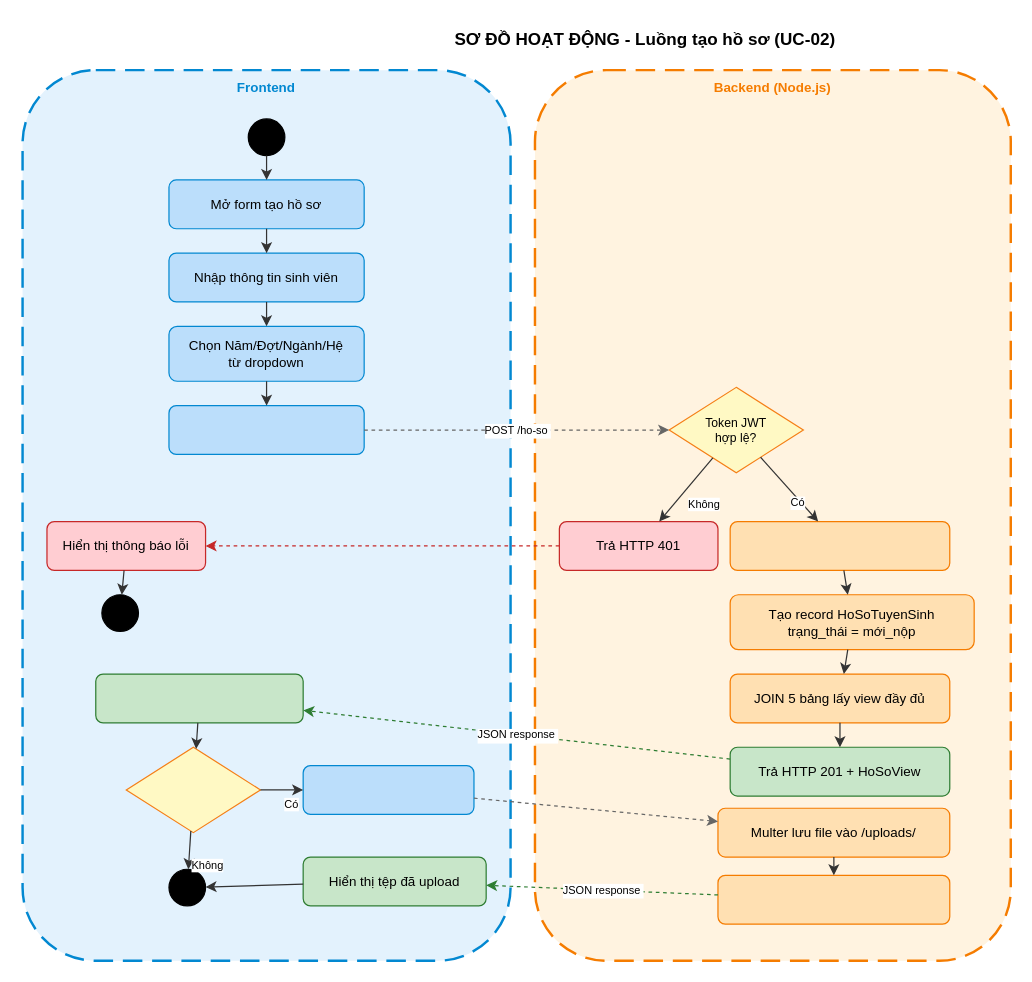
Some shapes in this 1032 by 982 pixel diagram are drawn without their labels. Here are the shapes that lost their labels. From the top down, the centre of each, then its label:
At point (266, 429): "Bấm nút Lưu".
At point (839, 545): "Tạo record SinhVien (UUID)".
At point (199, 698): "Hiển thị mã hồ sơ HS###".
At point (192, 789): "Có tệp cần đính kèm?".
At point (388, 789): "Chọn file upload".
At point (833, 899): "INSERT record TepDinhKem".
